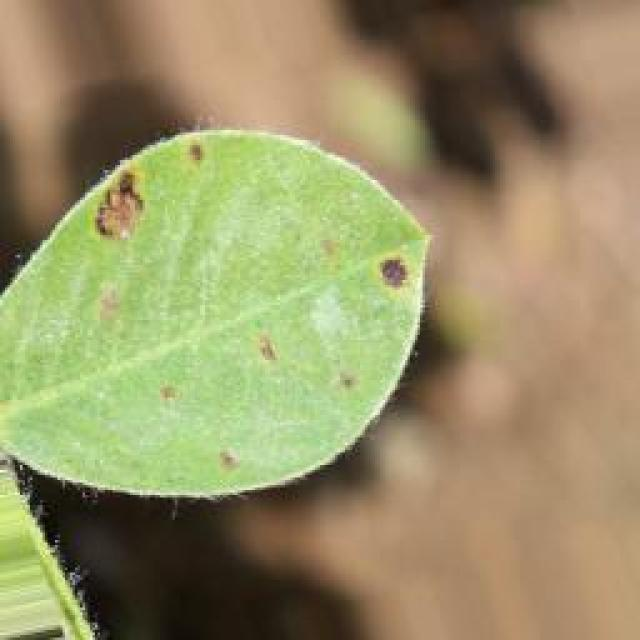Sigatoka: (77, 166, 165, 262), (59, 274, 154, 343), (177, 124, 243, 196), (183, 423, 265, 480), (134, 357, 196, 418), (238, 325, 294, 384), (369, 242, 415, 307), (315, 348, 367, 399)
